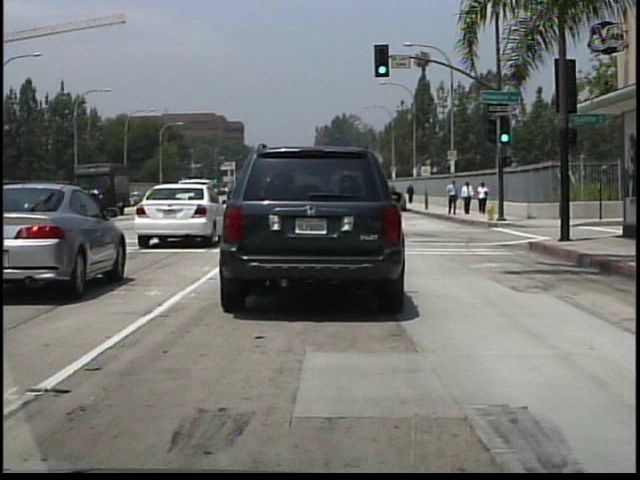person: (445, 178, 460, 218), (460, 180, 474, 216), (476, 181, 490, 215), (406, 183, 416, 205)
